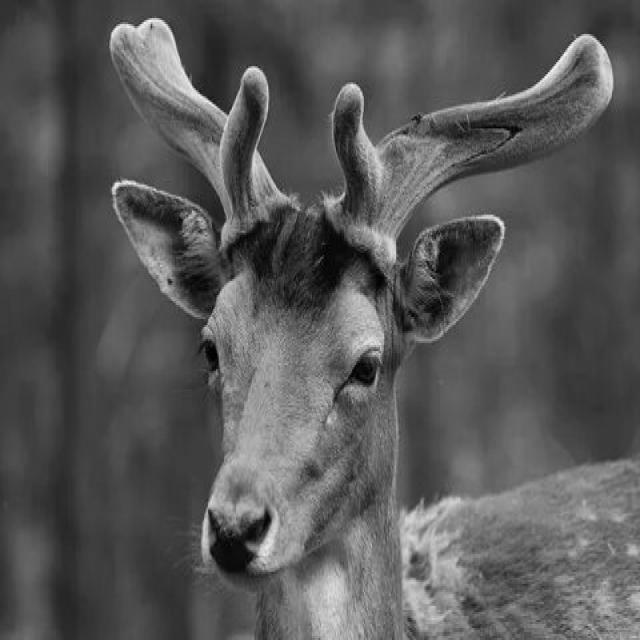Deer: (110, 1, 620, 639)
